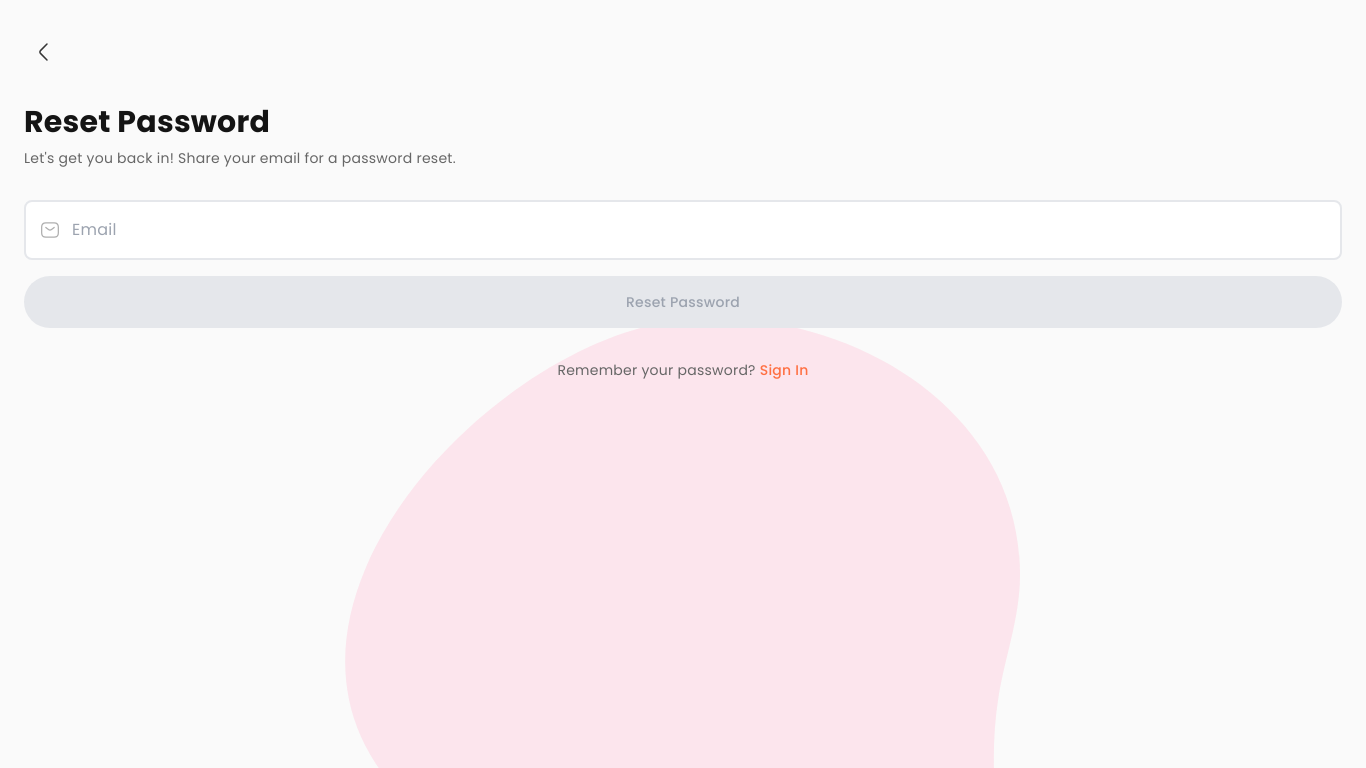
Test case: ForgotPasswordPage › shows inline email validation errors
This screenshot has width=1366, height=768.
Type "invalid-email" into the field with placeholder "Email" at point(683, 230), box [24,200,1342,260]
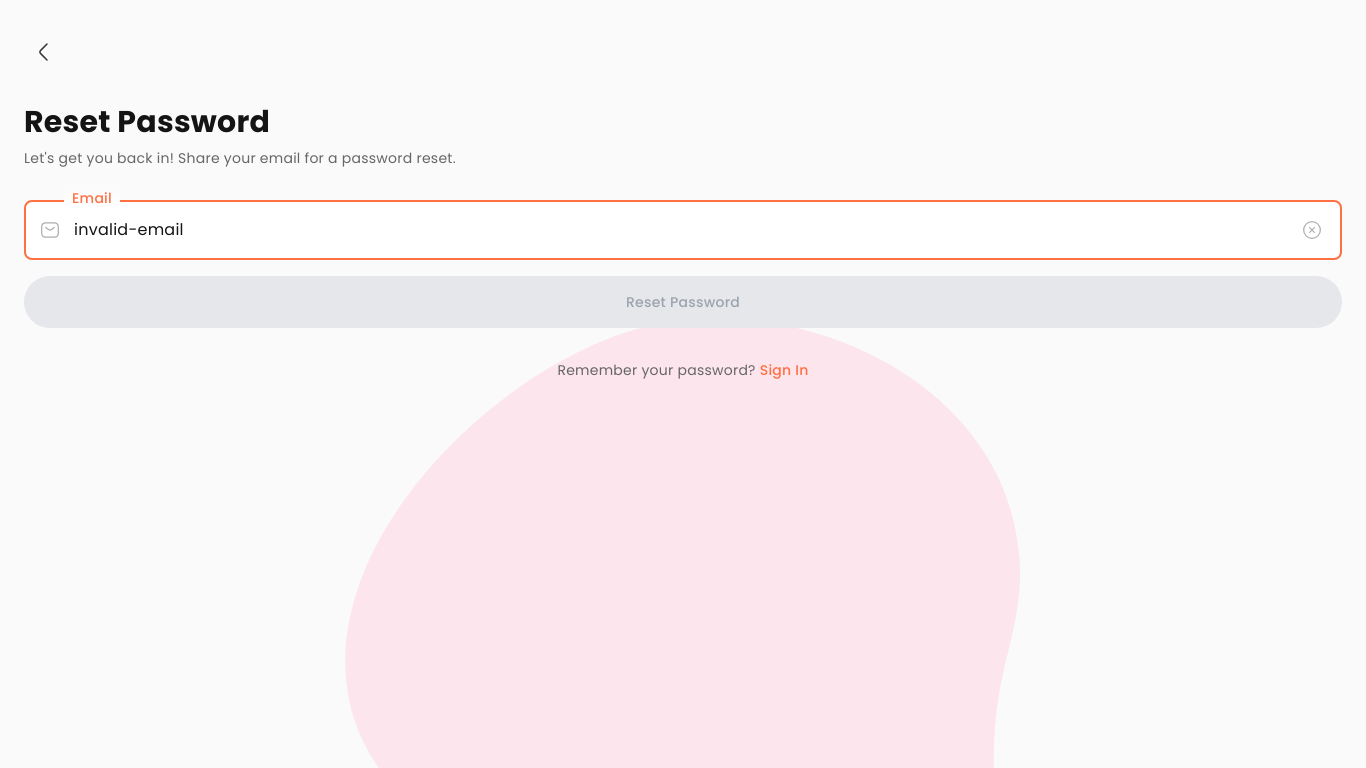
Press Tab
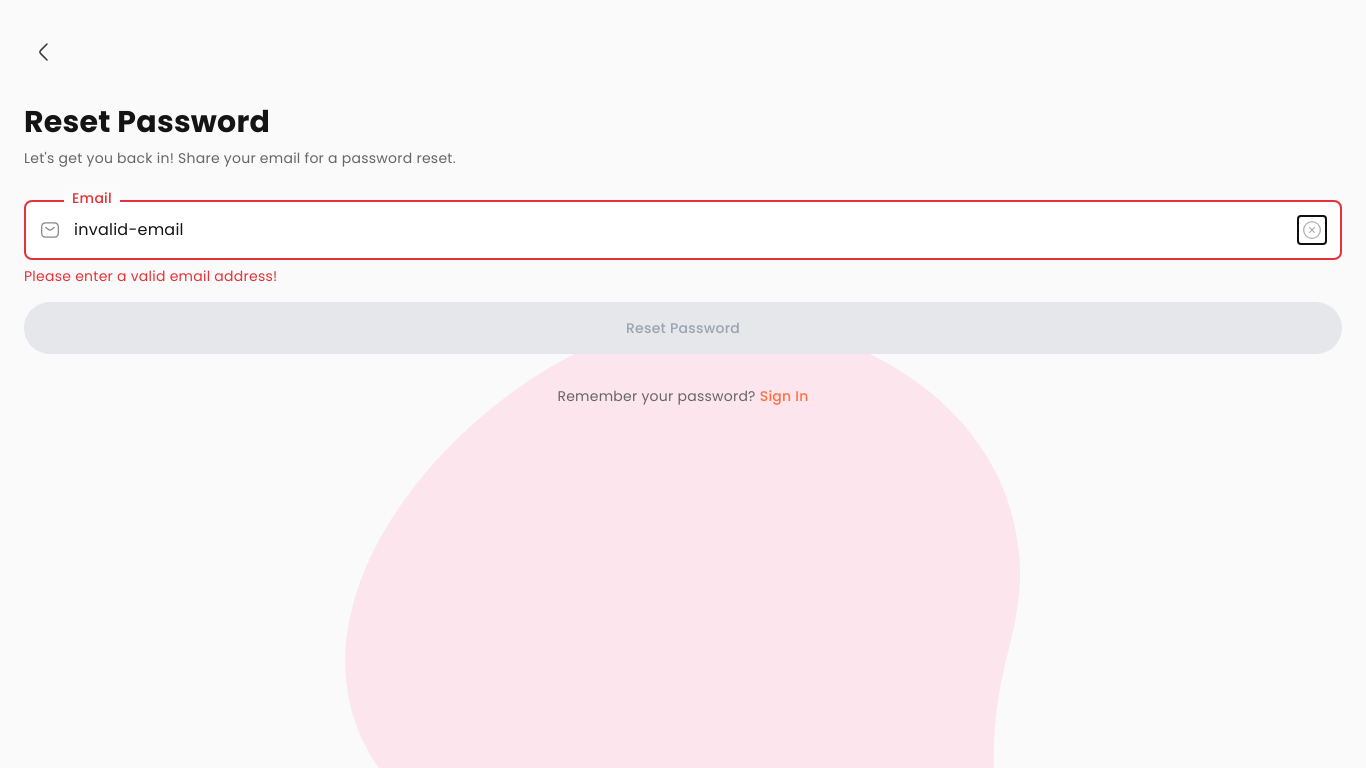
Result: the text "Please enter a valid email address!" is shown at [24,266,277,286]
